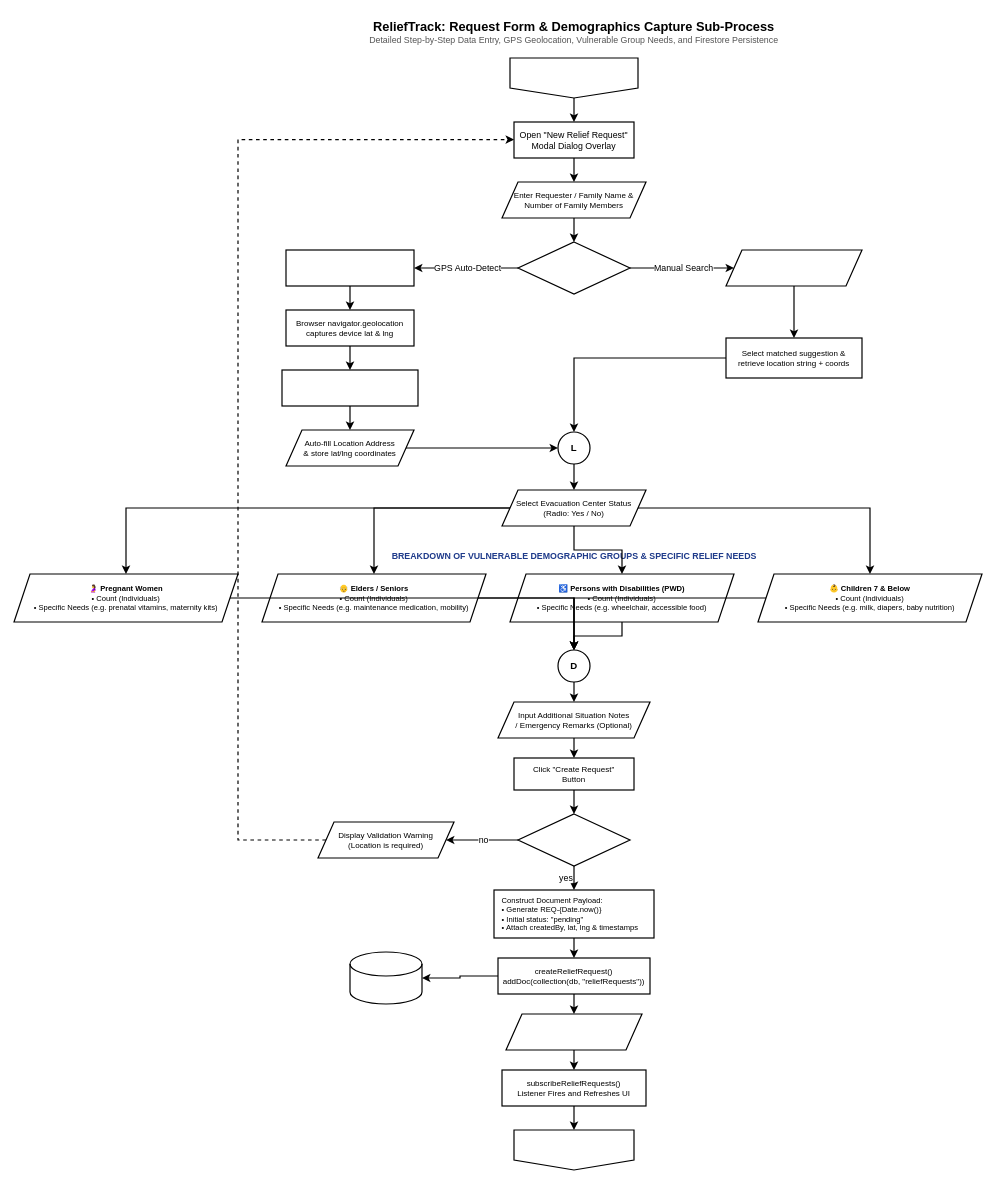
This 997x1184 diagram has some shape labels left out. Here are the shapes that lost their labels. From the top down, the box of each, then its label:
(509, 57, 638, 98): From Requests Page (+ New Request Clicked)
(285, 249, 414, 286): Click GPS Locate Button (📍) detectLocation()
(517, 241, 630, 294): Location Input Method?
(725, 249, 862, 286): Type Address / Barangay in LocationAutocomplete
(281, 369, 418, 406): Reverse Geocode via OpenStreetMap Nominatim API
(517, 813, 630, 866): Is Location Provided & Valid?
(349, 951, 422, 1004): Firestore DB reliefRequests
(505, 1013, 642, 1050): Reset Form to EMPTY_FORM & Close Modal Overlay
(513, 1129, 634, 1170): Back to Requests Dashboard
